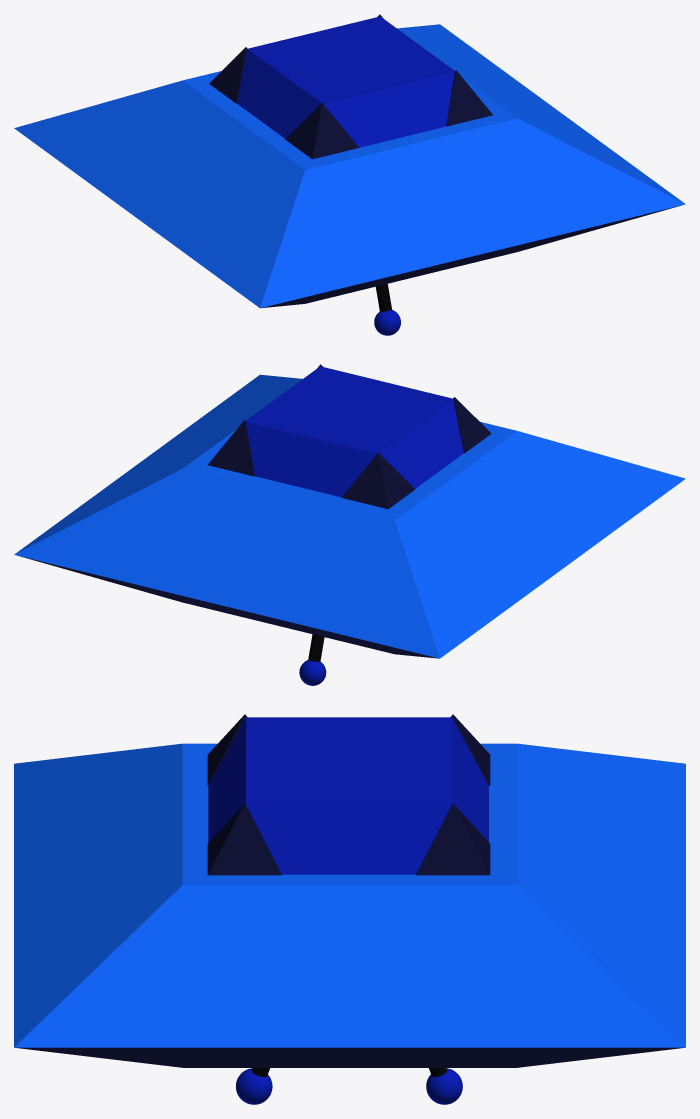
3 views of the same model, one above another, from view 1: azimuth 30°, elevation 25°; view 2: azimuth 150°, elevation 25°; view 3: azimuth 270°, elevation 25° (orthographic). The views are drawn at different scales.
Visible parts, largest first — view 1: Box001, Box004, Box002, Pyramid001, Pyramid002, Pyramid004, Sphere002; view 2: Box001, Box004, Box002, Pyramid004, Pyramid003, Pyramid001, Sphere001; view 3: Box001, Box004, Box002, Pyramid002, Pyramid003, Sphere001, Sphere002, Pyramid004, Pyramid001.
Boxes of the visible parts, box(x1,y1,x2,y2) form: Box001: box(14, 24, 685, 307); Box004: box(237, 16, 454, 147); Box002: box(260, 205, 681, 308); Pyramid001: box(285, 103, 358, 159); Pyramid002: box(446, 70, 492, 126); Pyramid004: box(209, 47, 247, 103); Sphere002: box(374, 310, 400, 335); Box001: box(14, 374, 685, 658); Box004: box(246, 366, 463, 497); Box002: box(19, 556, 438, 658); Pyramid004: box(341, 452, 415, 509); Pyramid003: box(207, 420, 254, 476); Pyramid001: box(453, 397, 491, 453); Sphere001: box(299, 660, 326, 685); Box001: box(14, 743, 685, 1047); Box004: box(208, 717, 488, 874); Box002: box(15, 1047, 684, 1067); Pyramid002: box(207, 804, 281, 875); Pyramid003: box(416, 803, 490, 875); Sphere001: box(426, 1068, 462, 1104); Sphere002: box(235, 1068, 272, 1104); Pyramid004: box(450, 714, 490, 785); Pyramid001: box(207, 714, 247, 785).
Size of the model in its own units: 78.74 by 44.37 by 78.74.
